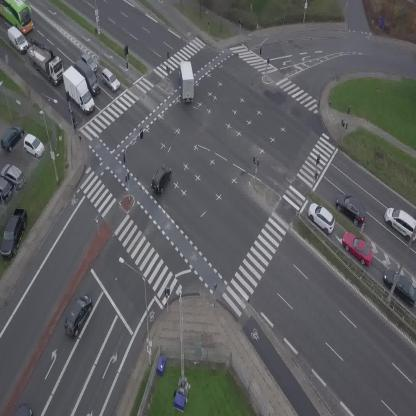bicycle: (71, 114, 79, 131)
car: (59, 291, 96, 339), (330, 189, 373, 229), (337, 227, 379, 267), (303, 199, 340, 236), (147, 161, 176, 196), (96, 65, 124, 93), (78, 50, 100, 72), (13, 403, 32, 416)
lorry: (17, 33, 72, 88), (55, 64, 104, 115), (70, 56, 105, 95), (3, 23, 30, 54), (177, 60, 196, 103)
